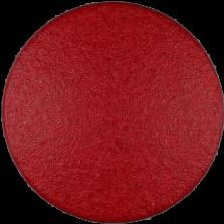0603-0179: (0, 0, 224, 224)
